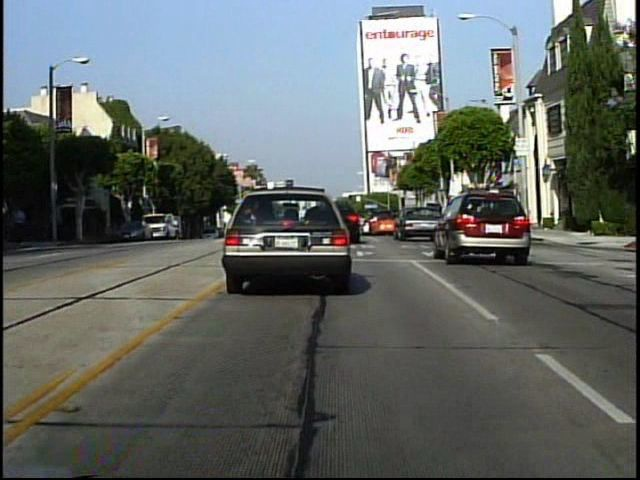person: (8, 205, 35, 252)
